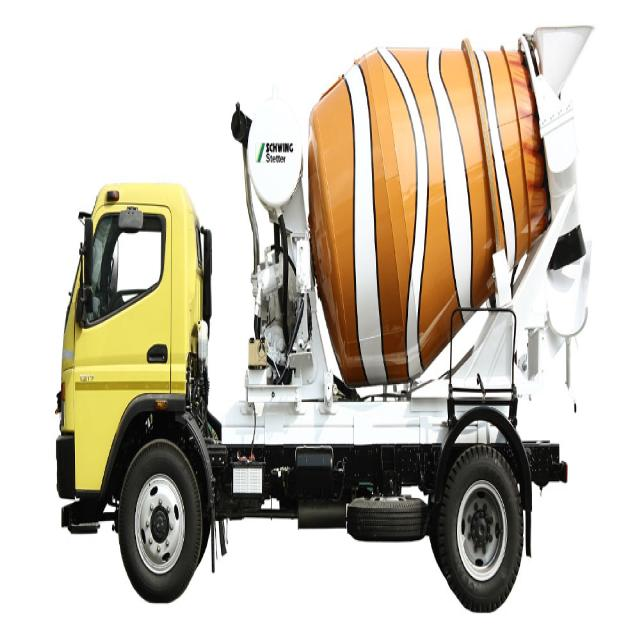truck: (55, 25, 590, 612)
